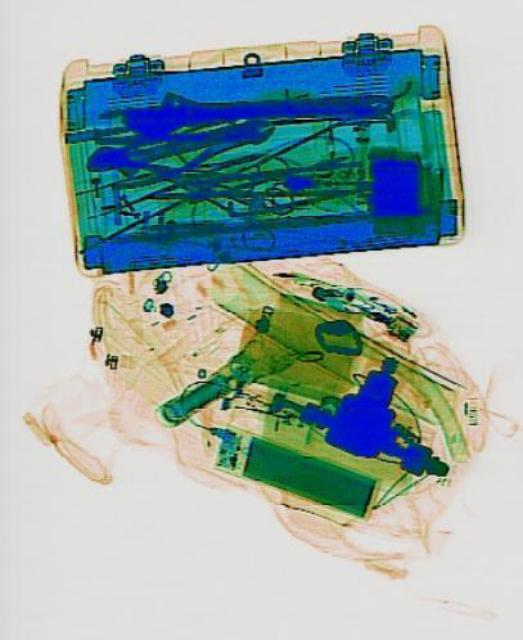Wrench: (121, 78, 392, 140), (79, 102, 272, 184)
